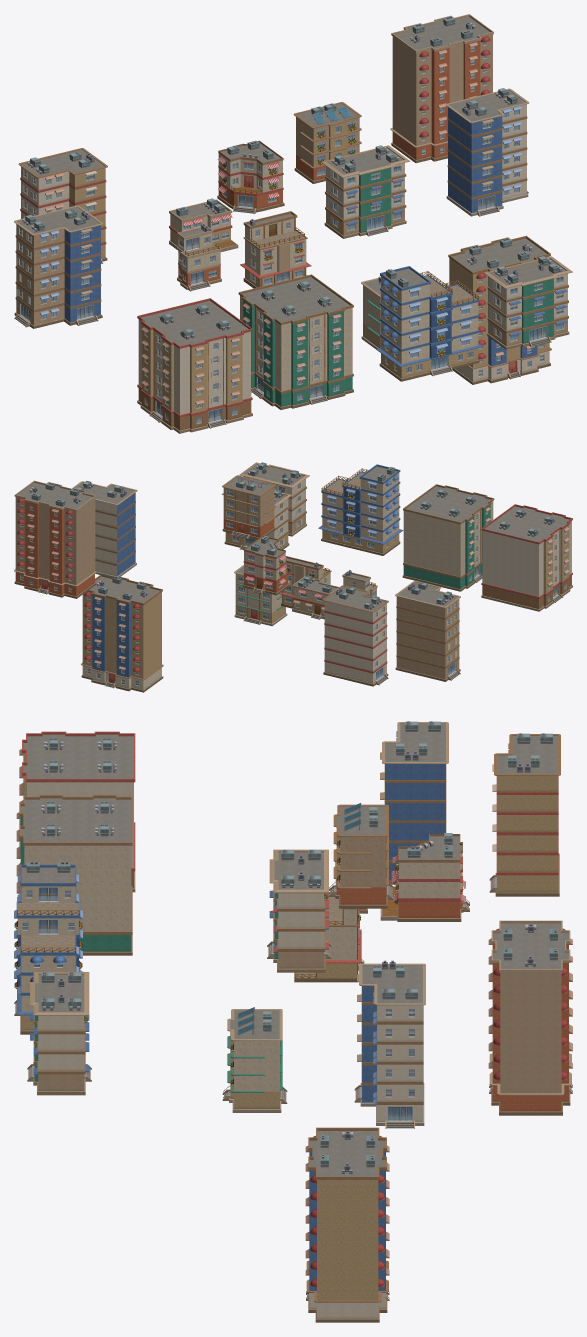
Rendered from Buildings.glb.
3 renders of one model, top to bottom at view 1: azimuth 30°, elevation 25°; view 2: azimuth 150°, elevation 25°; view 3: azimuth 270°, elevation 25°, orthographic. The views are drawn at different scales.
Parts seen in each view (by area): view 1: Building_8_Roof, Building_8_Decor_1_1, Building_9, Building_10, Building_7_Roof, Building_10_1_Roof_1, Building_6, Building_6_Roof_1, Airing_2__6_, Building_10_Walls_1, Building_4, Building_3_Fencing (+4 smaller); view 2: Building_9, Airing_2__6_, Building_8_Roof, Building_8_Decor_1_1, Building_7_Roof, Building_10, Building_10_Walls_1, Building_10_1_Roof_1, Building_5_Roof_1, Building_4, Building_6_Roof_1, Building_5 (+4 smaller); view 3: Building_9, Airing_2__6_, Building_8_Decor_1_1, Building_10_1_Roof_1, Building_10_Walls_1, Building_7_Roof, Building_8_Roof, Building_10, Building_6_Roof_1, Building_6, Building_5_Roof_1, Building_5 (+2 smaller).
Part boxes in pixels (x1,y1,x2,y2): Building_8_Roof: [137, 298, 252, 433]; Building_8_Decor_1_1: [238, 274, 353, 409]; Building_9: [390, 14, 493, 163]; Building_10: [14, 205, 103, 328]; Building_7_Roof: [376, 266, 483, 381]; Building_10_1_Roof_1: [446, 88, 529, 216]; Building_6: [321, 145, 410, 238]; Building_6_Roof_1: [484, 256, 572, 349]; Airing_2__6_: [448, 235, 551, 384]; Building_10_Walls_1: [18, 148, 107, 263]; Building_4: [217, 140, 284, 213]; Building_3_Fencing: [240, 211, 311, 288]; Building_9: [14, 480, 96, 598]; Airing_2__6_: [81, 575, 163, 692]; Building_8_Roof: [481, 504, 572, 611]; Building_8_Decor_1_1: [402, 484, 494, 591]; Building_7_Roof: [318, 464, 403, 555]; Building_10: [395, 580, 460, 681]; Building_10_Walls_1: [323, 585, 388, 686]; Building_10_1_Roof_1: [73, 481, 137, 578]; Building_5_Roof_1: [222, 475, 275, 539]; Building_4: [243, 535, 292, 595]; Building_6_Roof_1: [239, 462, 309, 536]; Building_5: [234, 565, 287, 626]; Building_9: [488, 920, 572, 1115]; Airing_2__6_: [305, 1127, 389, 1322]; Building_8_Decor_1_1: [16, 795, 132, 955]; Building_10_1_Roof_1: [354, 960, 425, 1128]; Building_10_Walls_1: [489, 733, 560, 896]; Building_7_Roof: [14, 861, 82, 1034]; Building_8_Roof: [19, 731, 135, 892]; Building_10: [380, 721, 448, 884]; Building_6_Roof_1: [27, 972, 91, 1095]; Building_6: [267, 849, 331, 972]; Building_5_Roof_1: [329, 803, 393, 908]; Building_5: [222, 1007, 287, 1112].
Bounding box in the file's own units: 98.73 × 54.79 × 73.1.
Materials: 111 (111 with a texture image).
